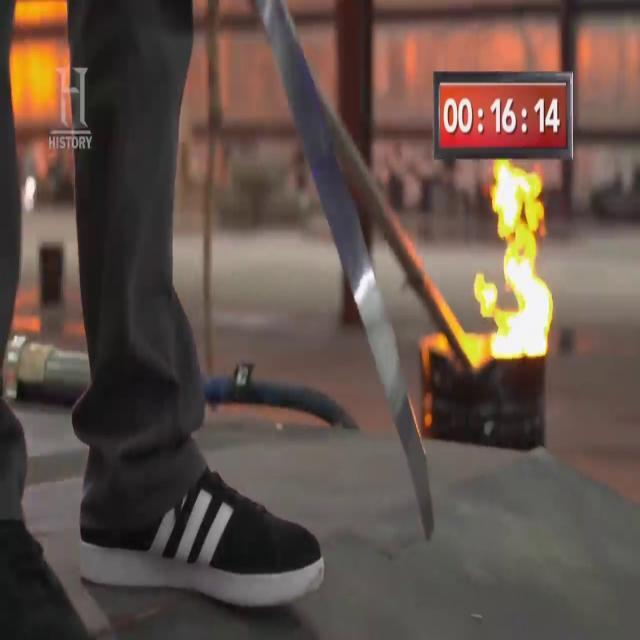Fire: (454, 146, 578, 386)
